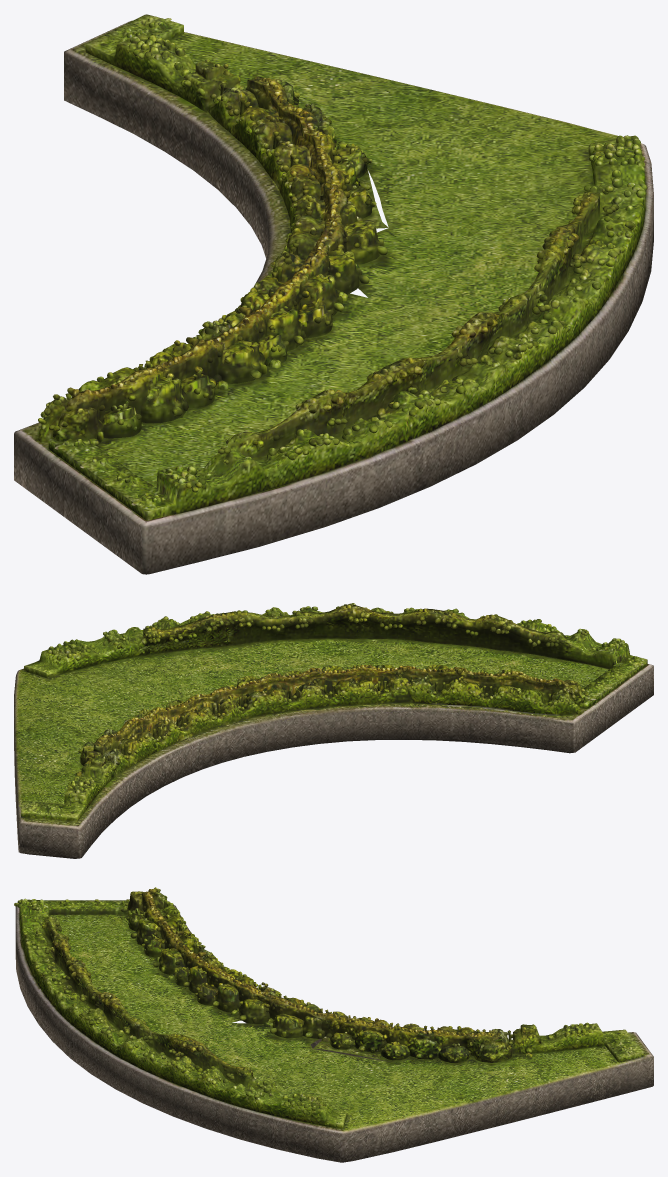
File: grass_1.glb
3 renders of one model, top to bottom at view 1: azimuth 30°, elevation 25°; view 2: azimuth 150°, elevation 25°; view 3: azimuth 270°, elevation 25°, orthographic. The views are drawn at different scales.
Visible parts, largest first — view 1: tripo_node_380bcbd3-608f-4cb1-89bc-b35509b7ab37; view 2: tripo_node_380bcbd3-608f-4cb1-89bc-b35509b7ab37; view 3: tripo_node_380bcbd3-608f-4cb1-89bc-b35509b7ab37.
Boxes of the visible parts, <box> form: tripo_node_380bcbd3-608f-4cb1-89bc-b35509b7ab37: <box>14,14,653,574</box>; tripo_node_380bcbd3-608f-4cb1-89bc-b35509b7ab37: <box>14,603,653,858</box>; tripo_node_380bcbd3-608f-4cb1-89bc-b35509b7ab37: <box>14,887,653,1162</box>.
Bounding box in the file's own units: 0.8462 × 0.1147 × 0.9995.
Materials: 1 (1 with a texture image).
